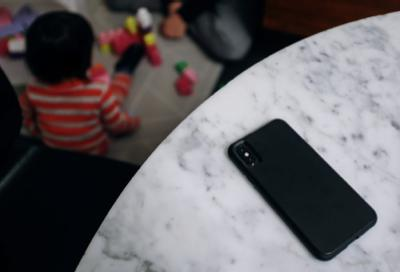cell-phone: (225, 116, 379, 266)
